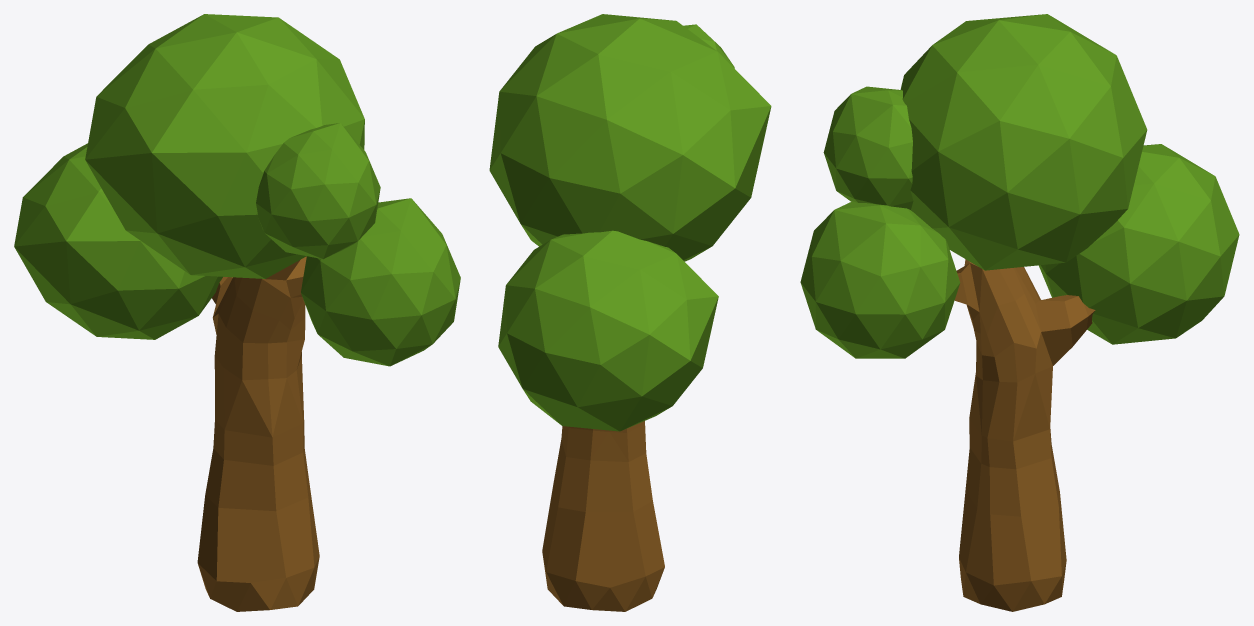
File: pohon.glb
3 renders of one model, left to right at view 1: azimuth 30°, elevation 25°; view 2: azimuth 150°, elevation 25°; view 3: azimuth 270°, elevation 25°, orthographic. The views are drawn at different scales.
Visible parts, largest first — view 1: batang-pohon.002; view 2: batang-pohon.002; view 3: batang-pohon.002.
Part boxes in pixels (x1=…): batang-pohon.002: x1=14, y1=14, x2=460, y2=611; batang-pohon.002: x1=489, y1=14, x2=771, y2=611; batang-pohon.002: x1=800, y1=14, x2=1239, y2=611.
Size of the model in its own units: 14.69 by 27.91 by 19.97.
